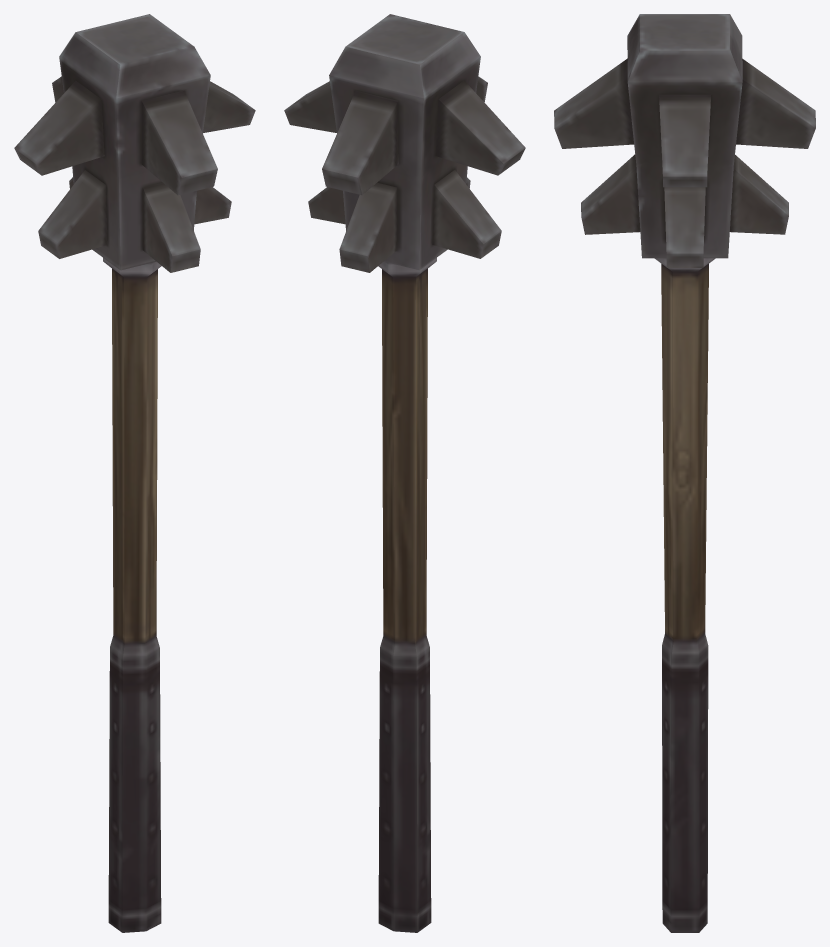
The model's file is warhammer_06.glb.
3 views of the same model, side by side, from view 1: azimuth 30°, elevation 25°; view 2: azimuth 150°, elevation 25°; view 3: azimuth 270°, elevation 25° (orthographic).
Parts seen in each view (by area): view 1: mace_stick_01; view 2: mace_stick_01; view 3: mace_stick_01.
Part boxes in pixels (x1,y1,x2,y2): mace_stick_01: (14,14,255,932); mace_stick_01: (284,14,525,932); mace_stick_01: (554,14,815,932).
Bounding box in the file's own units: 0.1593 × 0.6125 × 0.1631.
1 material, 1 textured.
